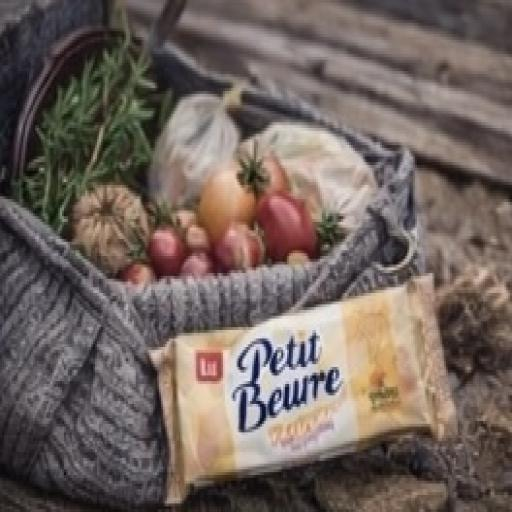petit-beurre: (95, 251, 476, 500)
